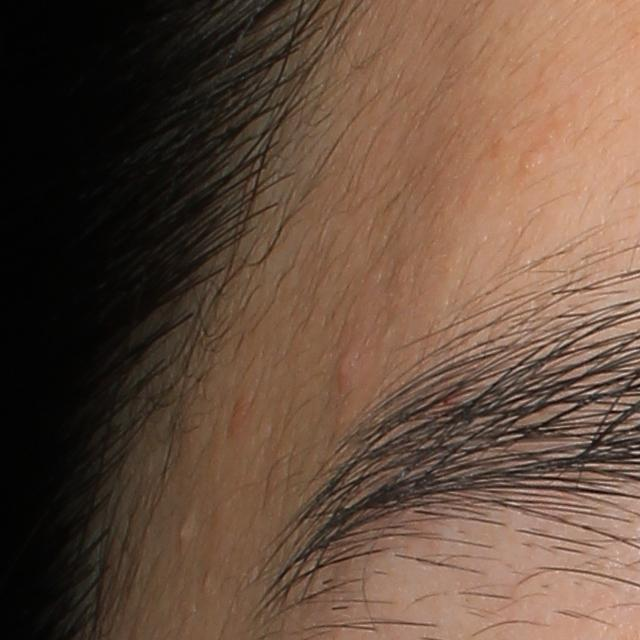comedo: (176, 516, 191, 549)
papule: (332, 337, 364, 389)
